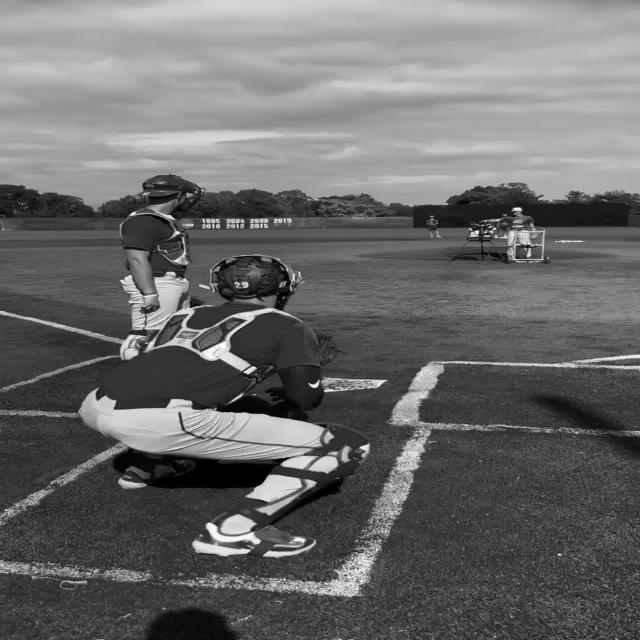base: (316, 377, 379, 393)
shoe: (191, 521, 316, 558), (116, 456, 196, 489)
